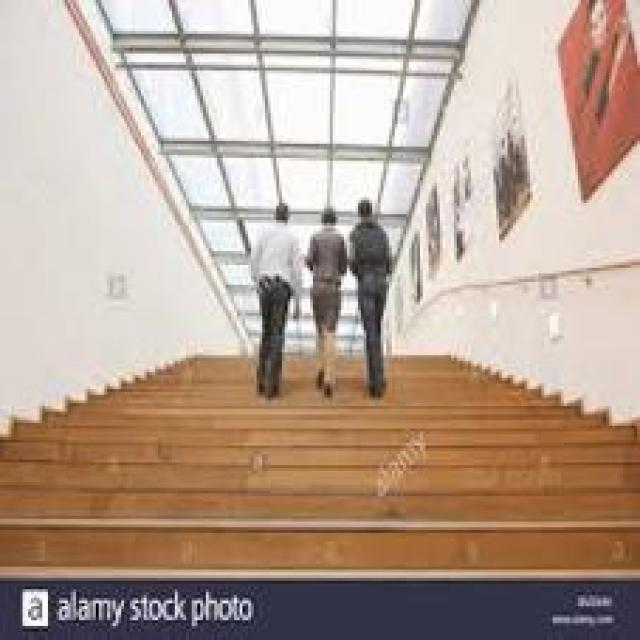stair: (46, 353, 565, 551)
